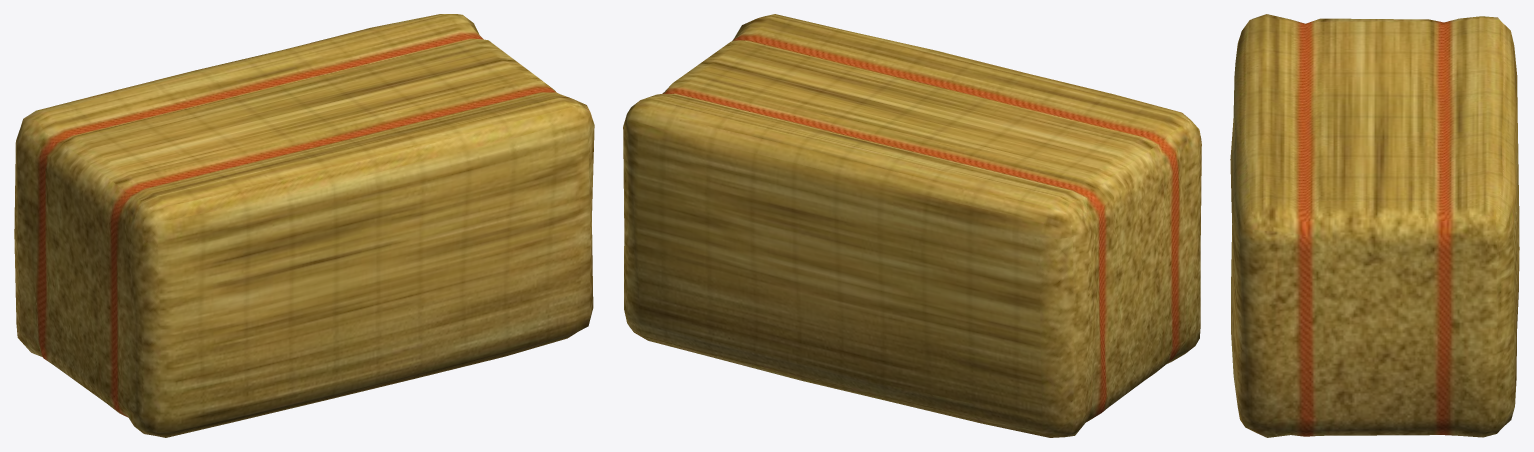
Rendered from bale.glb.
3 renders of one model, left to right at view 1: azimuth 30°, elevation 25°; view 2: azimuth 150°, elevation 25°; view 3: azimuth 270°, elevation 25°, orthographic. The views are drawn at different scales.
Parts seen in each view (by area): view 1: bale; view 2: bale; view 3: bale.
Boxes of the visible parts, box(x1,y1,x2,y2) form: bale: box(14, 14, 594, 437); bale: box(623, 14, 1201, 437); bale: box(1230, 14, 1519, 437).
Size of the model in its own units: 1.03 by 0.5098 by 0.5846.
1 material, 1 textured.
